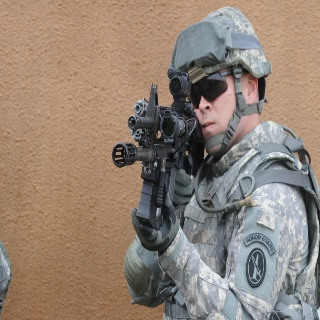rifle: (111, 68, 201, 232)
